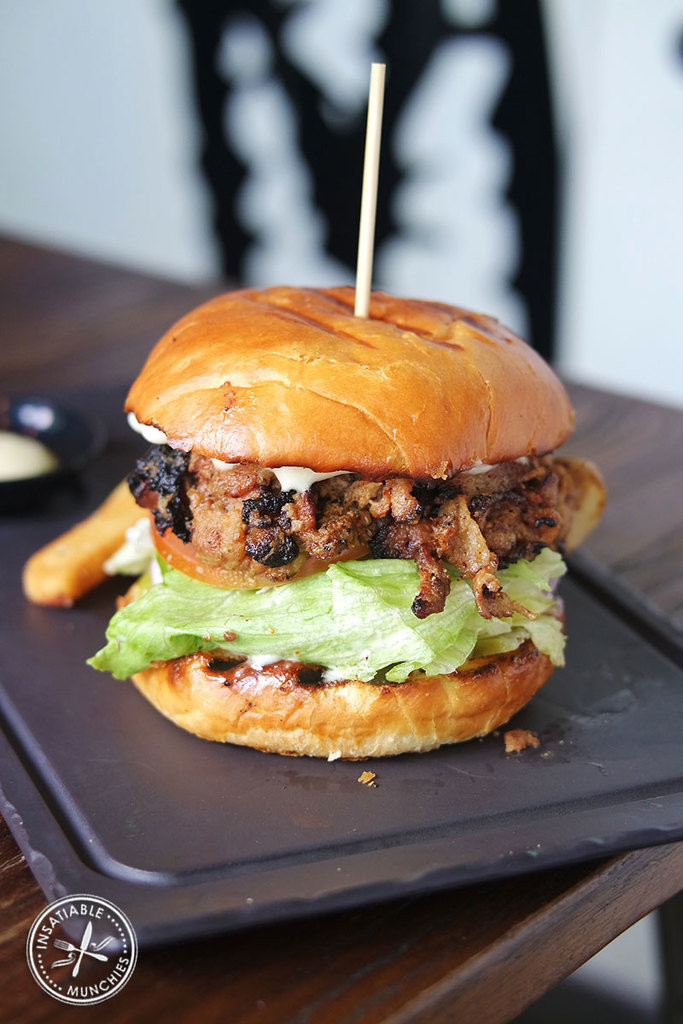Hamburger: (88, 289, 605, 756)
